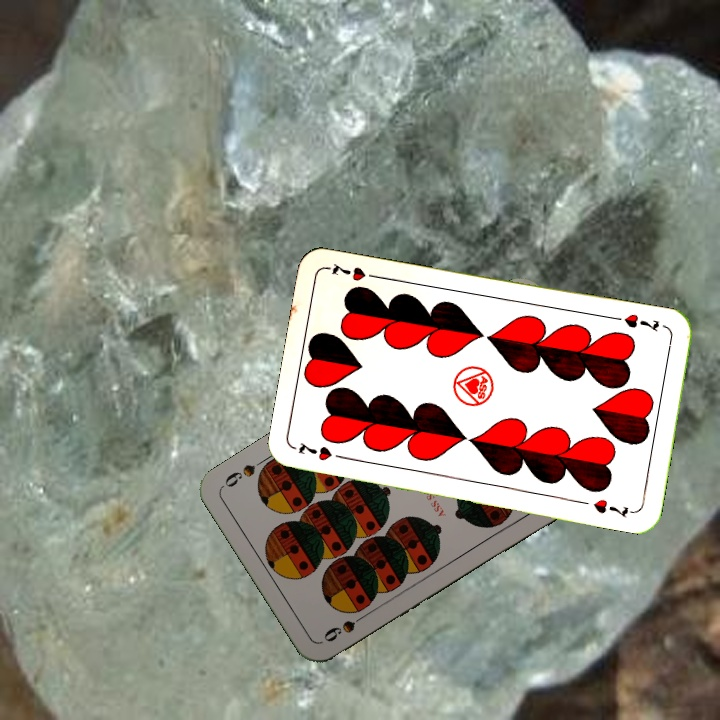H7: (609, 309, 662, 335), (294, 440, 350, 464)
S9: (319, 607, 373, 645)
